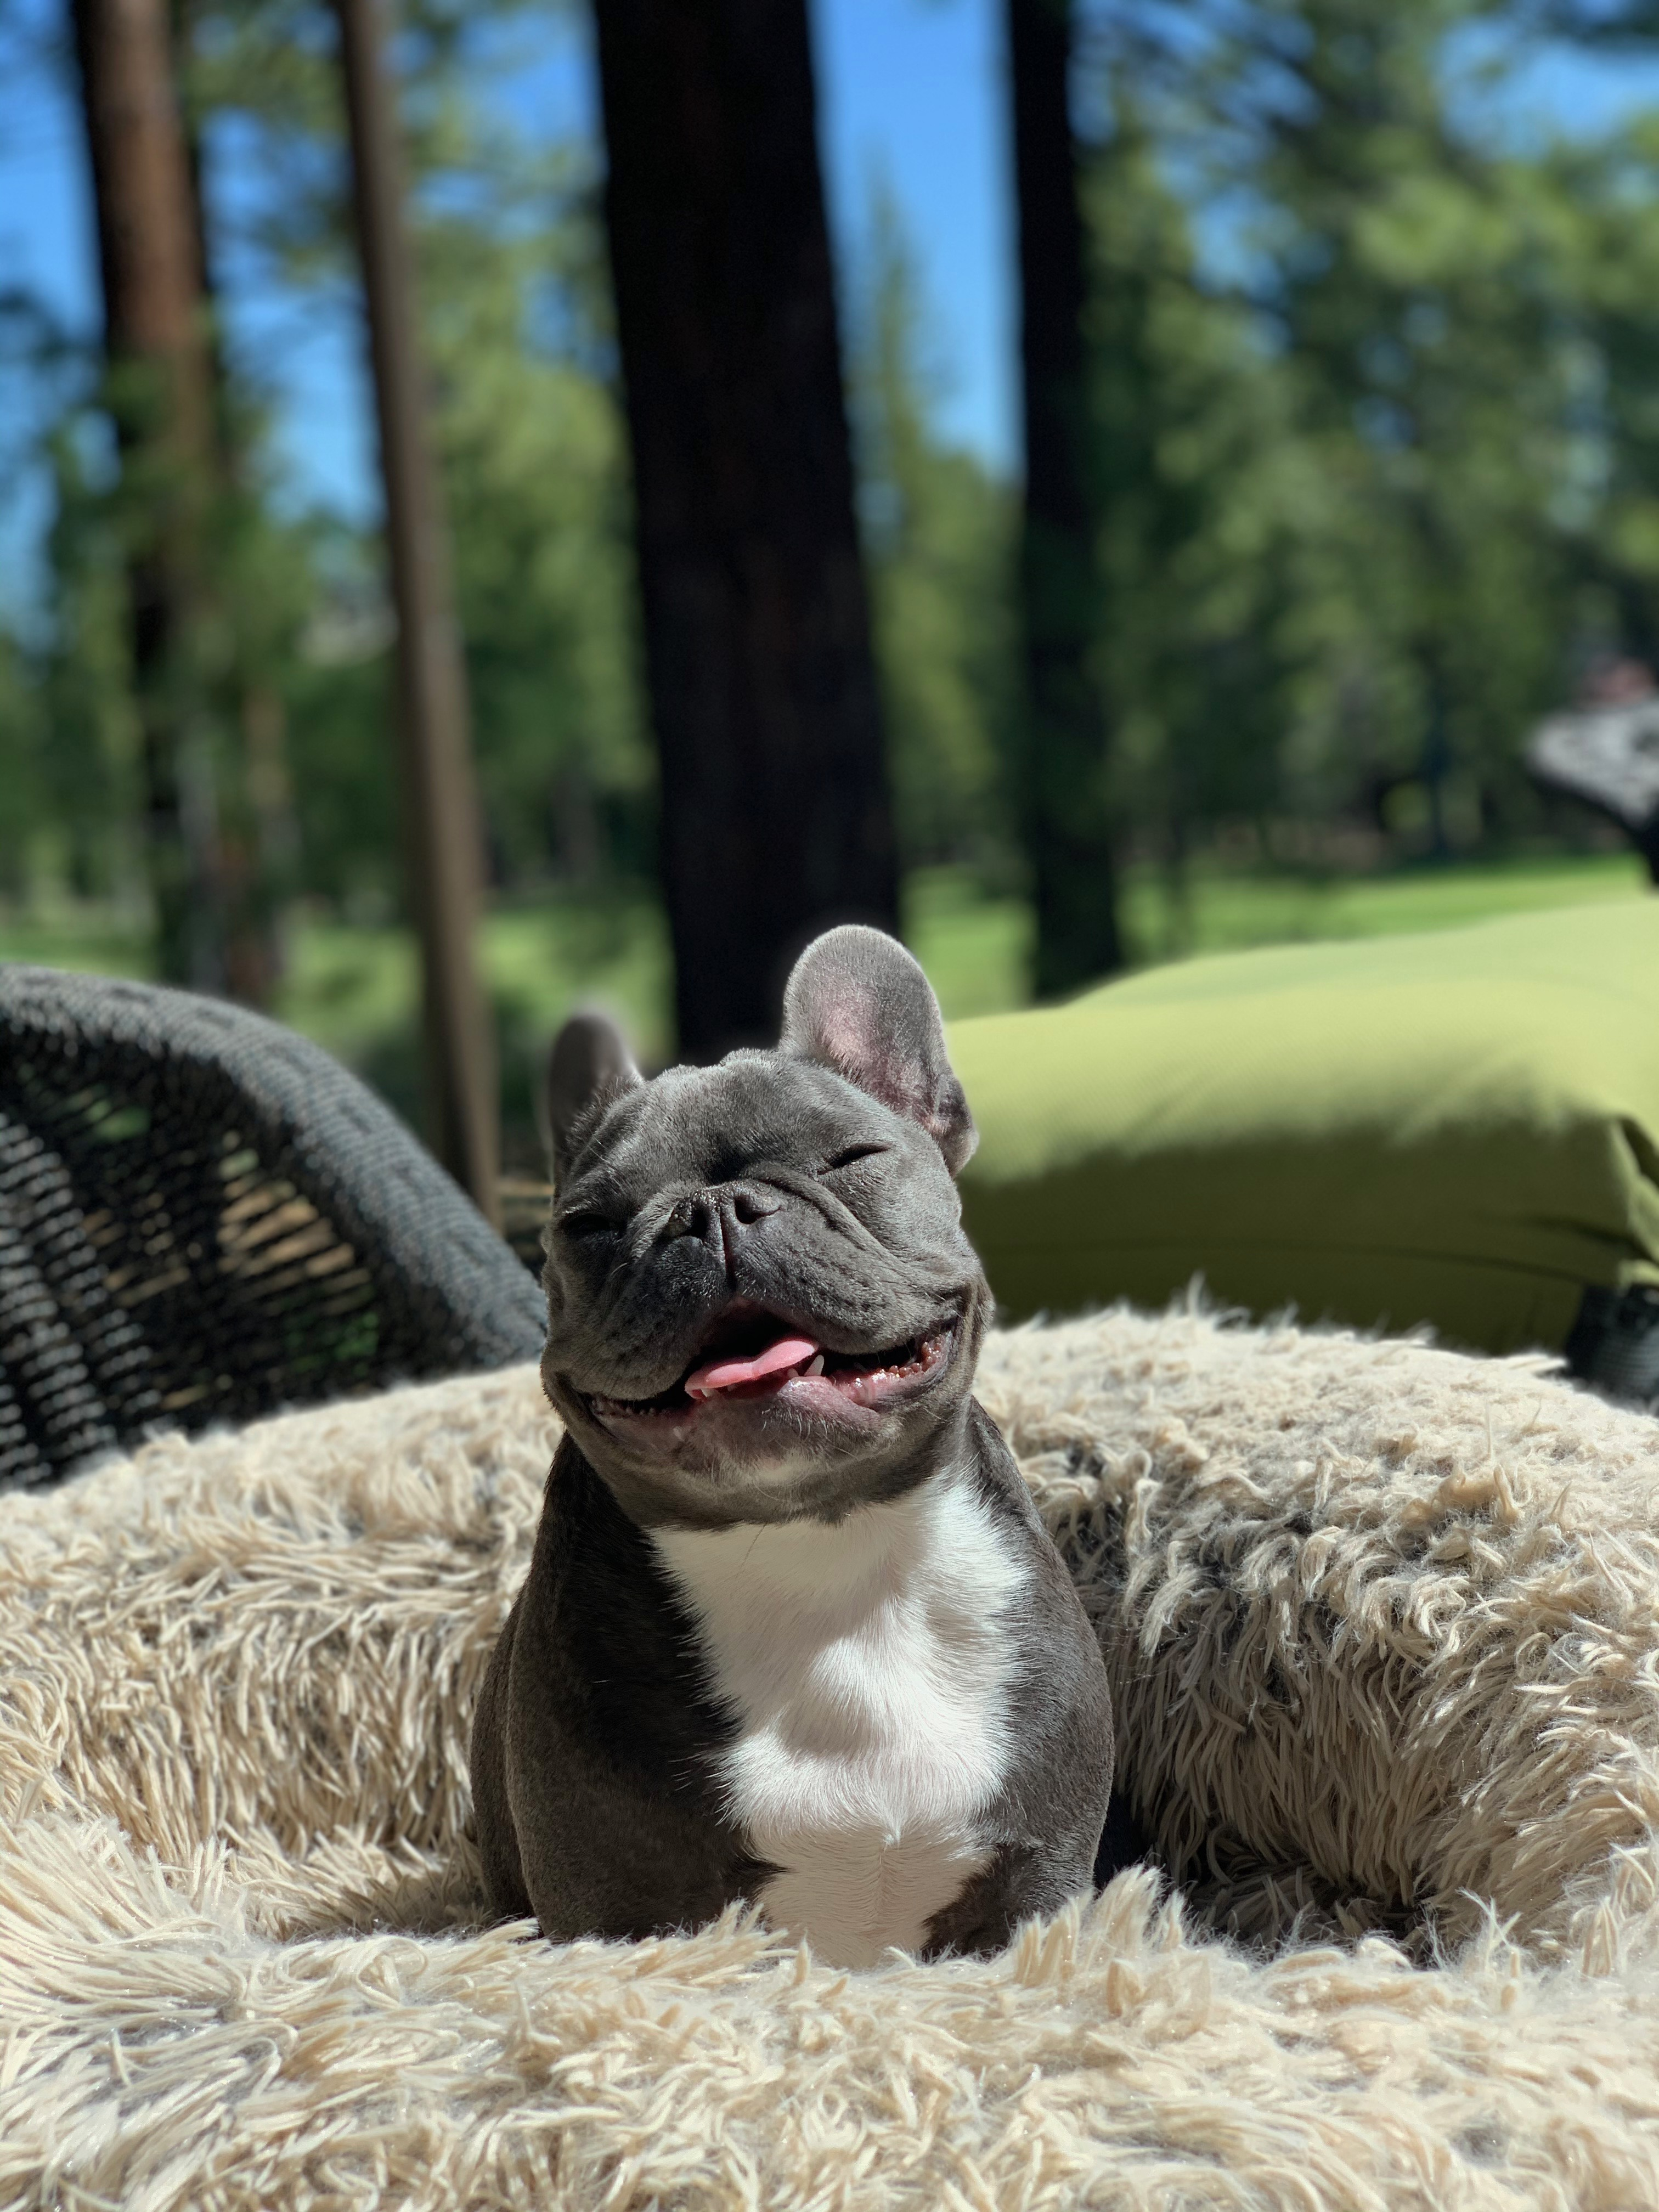lucy: (464, 911, 1124, 1984)
